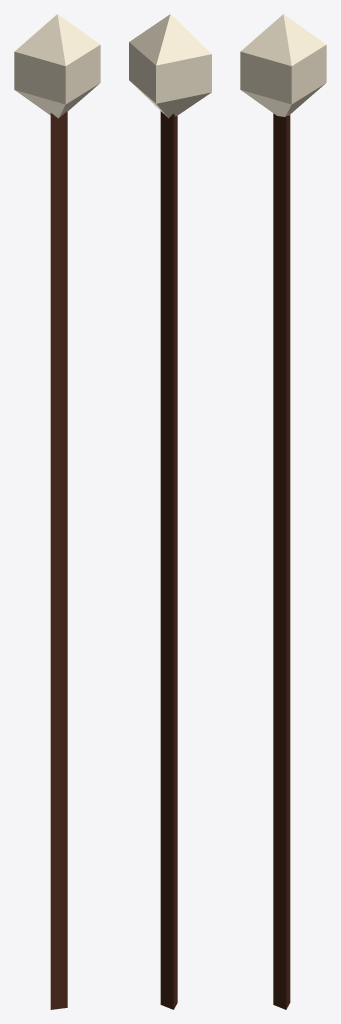
Rendered from Prop_Light_Street_A.fbx.
3 views of the same model, side by side, from view 1: azimuth 90°, elevation 25°; view 2: azimuth 150°, elevation 25°; view 3: azimuth 270°, elevation 25° (orthographic).
Visible parts, largest first — view 1: Prop_Light_Street_A; view 2: Prop_Light_Street_A; view 3: Prop_Light_Street_A.
Boxes of the visible parts, x1,y1,x2,y2 form: Prop_Light_Street_A: (14, 14, 100, 1009); Prop_Light_Street_A: (129, 14, 211, 1009); Prop_Light_Street_A: (240, 14, 326, 1009).
Size of the model in its own units: 43.37 by 552 by 43.37.
